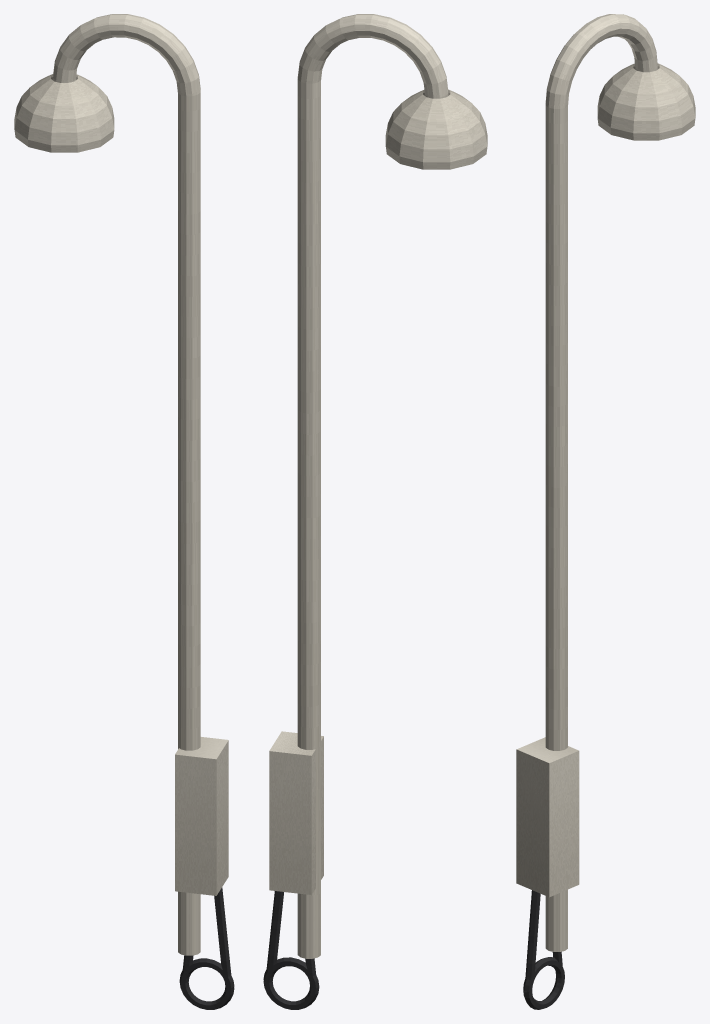
File: miovision_360_tall_diagl.obj
3 views of the same model, side by side, from view 1: azimuth 30°, elevation 25°; view 2: azimuth 210°, elevation 25°; view 3: azimuth 270°, elevation 25° (orthographic). The views are drawn at different scales.
Parts seen in each view (by area): view 1: miovision360; view 2: miovision360; view 3: miovision360.
Part boxes in pixels (x1,y1,x2,y2): miovision360: (14,14,234,1009); miovision360: (263,14,487,1009); miovision360: (516,14,695,1009).
Bounding box in the file's own units: 0.847 × 5.05 × 0.847.
